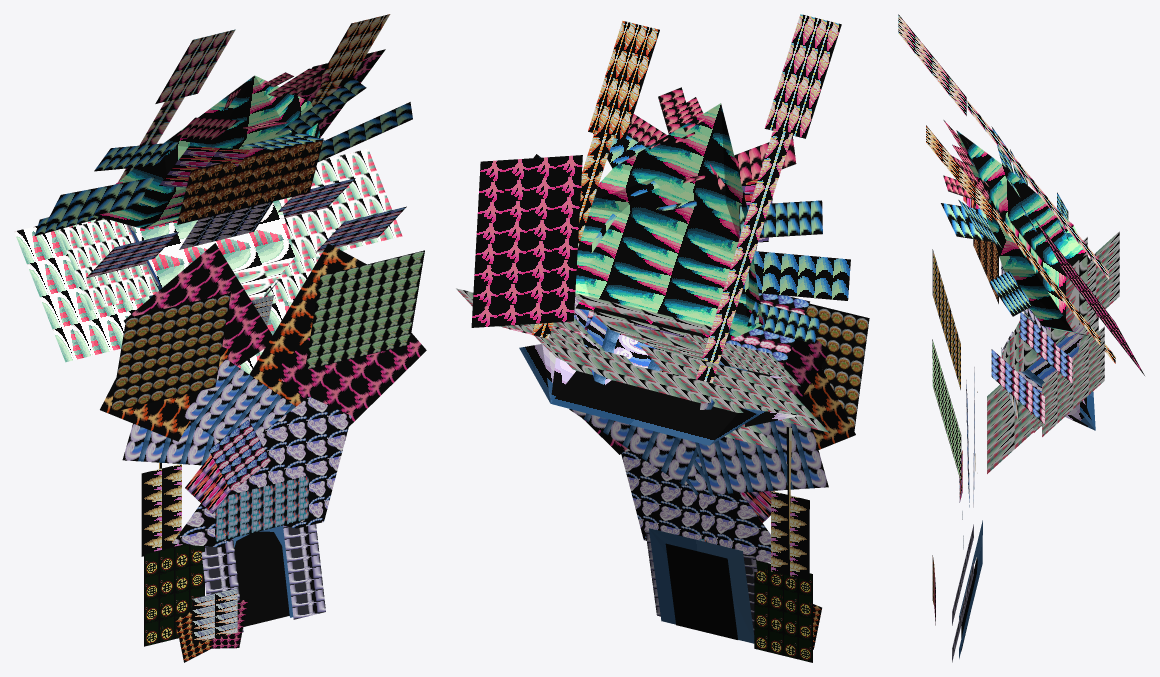
The model's file is ts_sea00.gltf.
The picture shows the model from 3 angles, left to right: view 1: azimuth 30°, elevation 25°; view 2: azimuth 150°, elevation 25°; view 3: azimuth 270°, elevation 25°; orthographic projection. The views are drawn at different scales.
Parts seen in each view (by area): view 1: ts_sea00; view 2: ts_sea00; view 3: ts_sea00.
Boxes of the visible parts, x1,y1,x2,y2 form: ts_sea00: (14,14,426,662); ts_sea00: (456,14,869,662); ts_sea00: (898,14,1144,662).
Bounding box in the file's own units: 2.55 × 4.26 × 1.64.
Materials: 22 (22 with a texture image).
